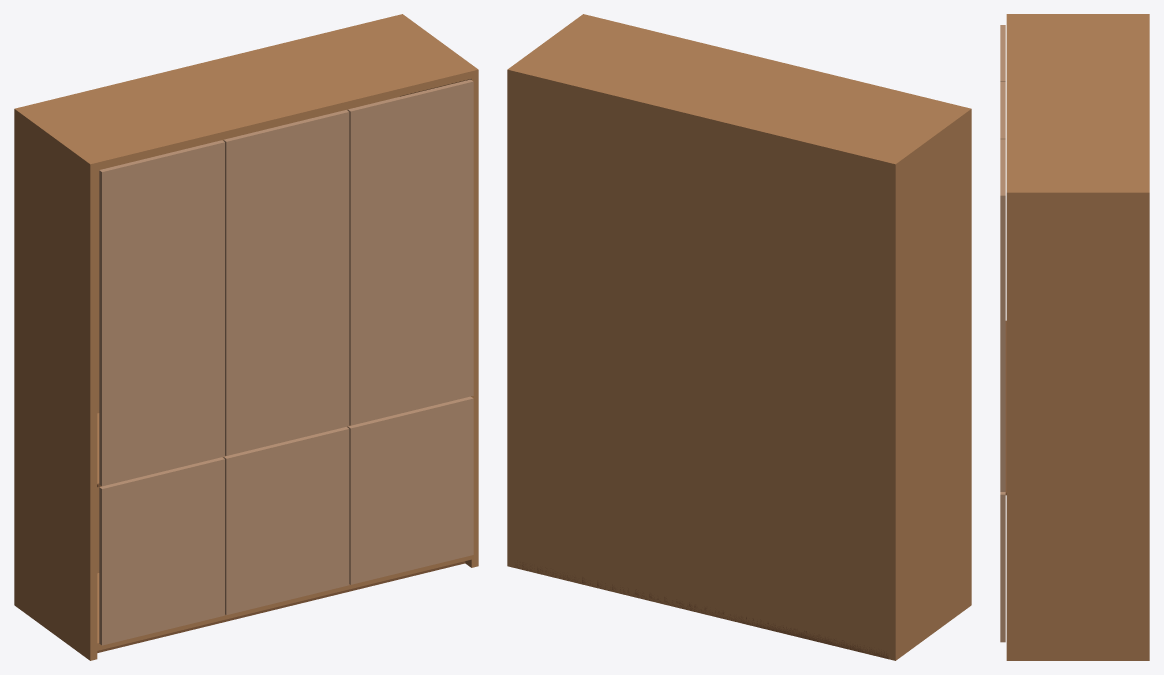
Rendered from 双段衣柜.glb.
3 renders of one model, left to right at view 1: azimuth 30°, elevation 25°; view 2: azimuth 150°, elevation 25°; view 3: azimuth 270°, elevation 25°, orthographic. The views are drawn at different scales.
Visible parts, largest first — view 1: structure-assembly; view 2: structure-assembly; view 3: structure-assembly.
Boxes of the visible parts, <box> form: structure-assembly: <box>14,14,478,660</box>; structure-assembly: <box>507,14,971,660</box>; structure-assembly: <box>1000,14,1149,660</box>.
Bounding box in the file's own units: 1.8 × 2.2 × 0.637.
